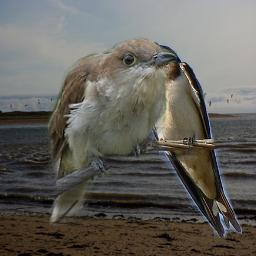Cuckoo: (44, 36, 177, 226)
Swallow: (124, 43, 242, 238)
